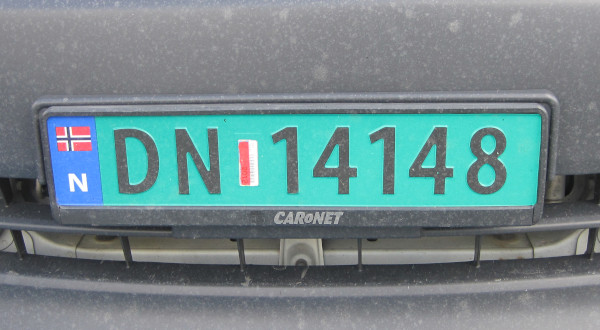license_plate: (47, 110, 543, 211)
